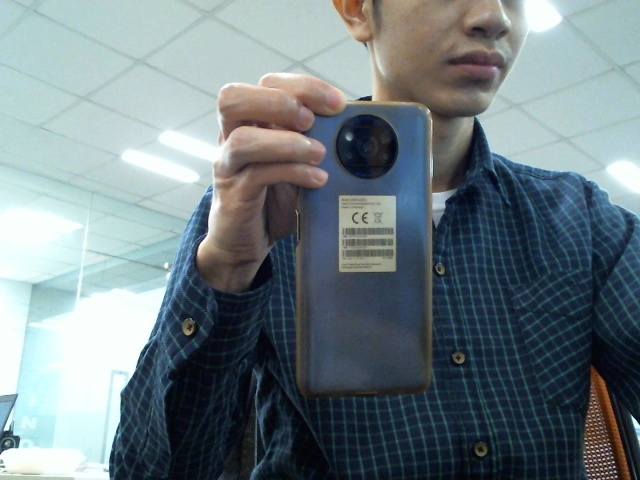handphone: (294, 100, 433, 397)
